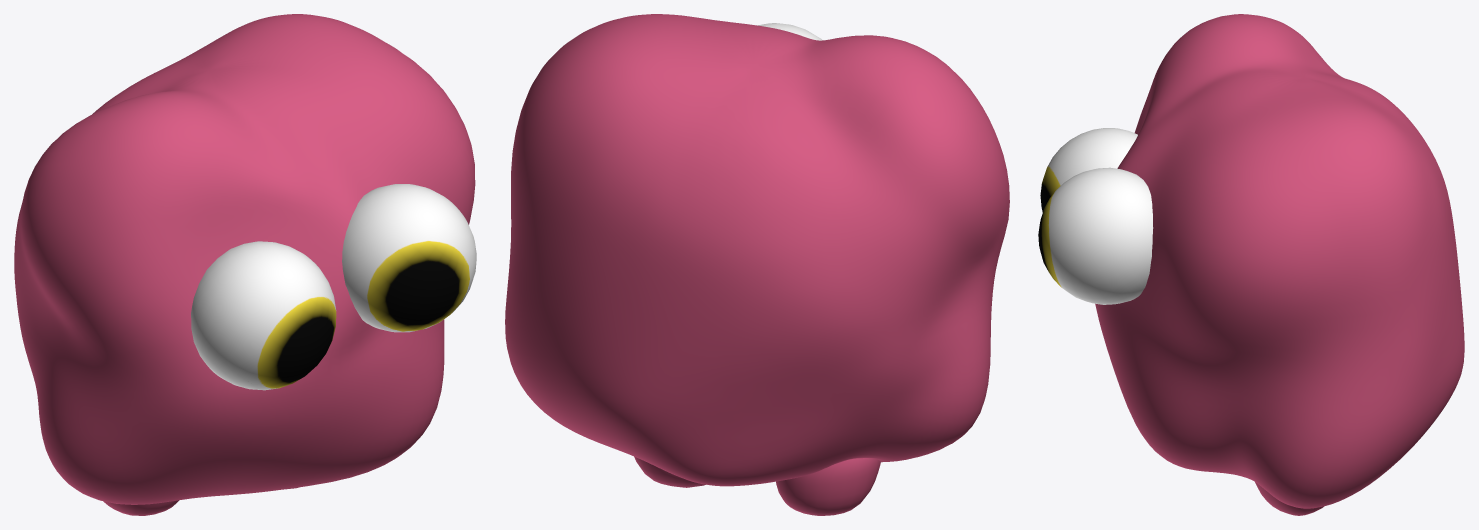
The model's file is PINK.gltf.
3 renders of one model, left to right at view 1: azimuth 30°, elevation 25°; view 2: azimuth 150°, elevation 25°; view 3: azimuth 270°, elevation 25°, orthographic. The views are drawn at different scales.
Visible parts, largest first — view 1: BODY.002, L EYE.004, L EYE.006; view 2: BODY.002; view 3: BODY.002, L EYE.006, L EYE.004.
Part boxes in pixels (x1,y1,x2,y2): BODY.002: (14,14,475,515); L EYE.004: (191,241,336,390); L EYE.006: (342,184,476,332); BODY.002: (505,14,1009,515); BODY.002: (1095,14,1464,515); L EYE.006: (1038,167,1153,304); L EYE.004: (1040,128,1137,212).
Size of the model in its own units: 1.88 by 1.84 by 1.74.
2 materials, 1 textured.
